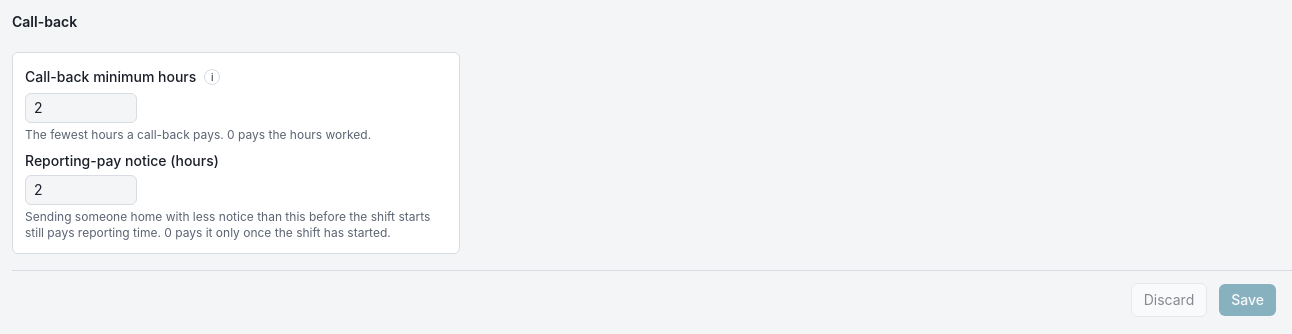
Scenario: the call-back minimum in Settings › Pay › says why a save was refused
Step 1. Replace the text in the number field labelled "Call-back minimum hours" with "4" → (81, 108), box x1=25 y1=93 x2=137 y2=123
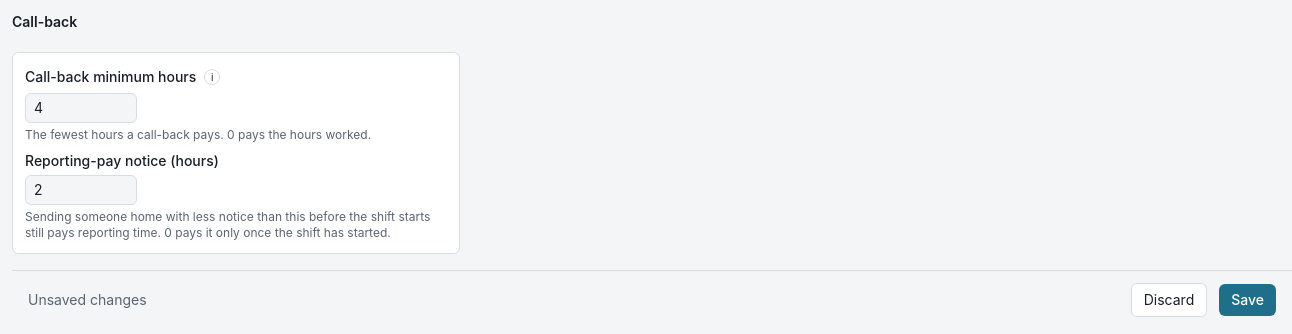
Step 2. Click the button "Save" → (1248, 300), box x1=1219 y1=284 x2=1276 y2=316
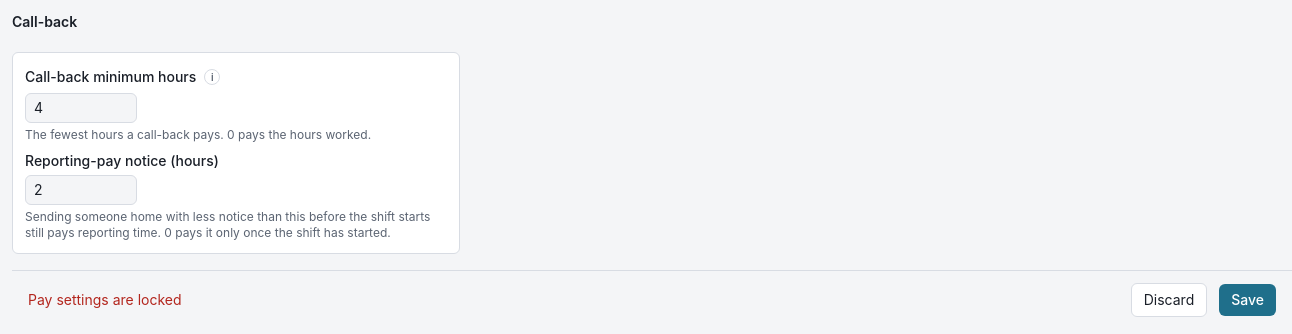
Now the message reads "Pay settings are locked", box x1=28 y1=291 x2=182 y2=308
